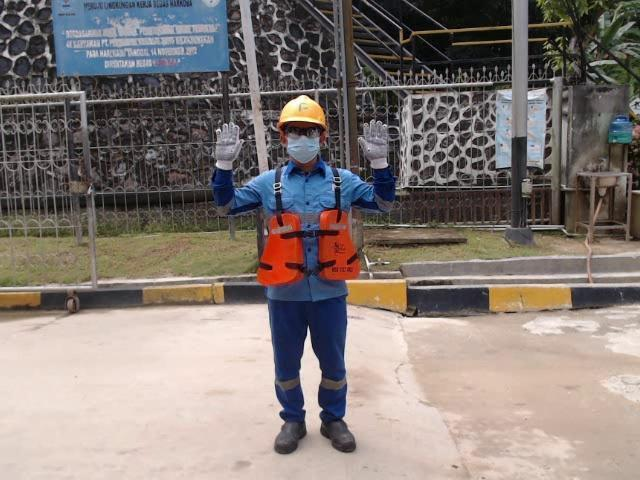0: (356, 115, 398, 170), (210, 121, 244, 166)
Boots: (269, 90, 333, 132)
Glass: (251, 162, 369, 294)
